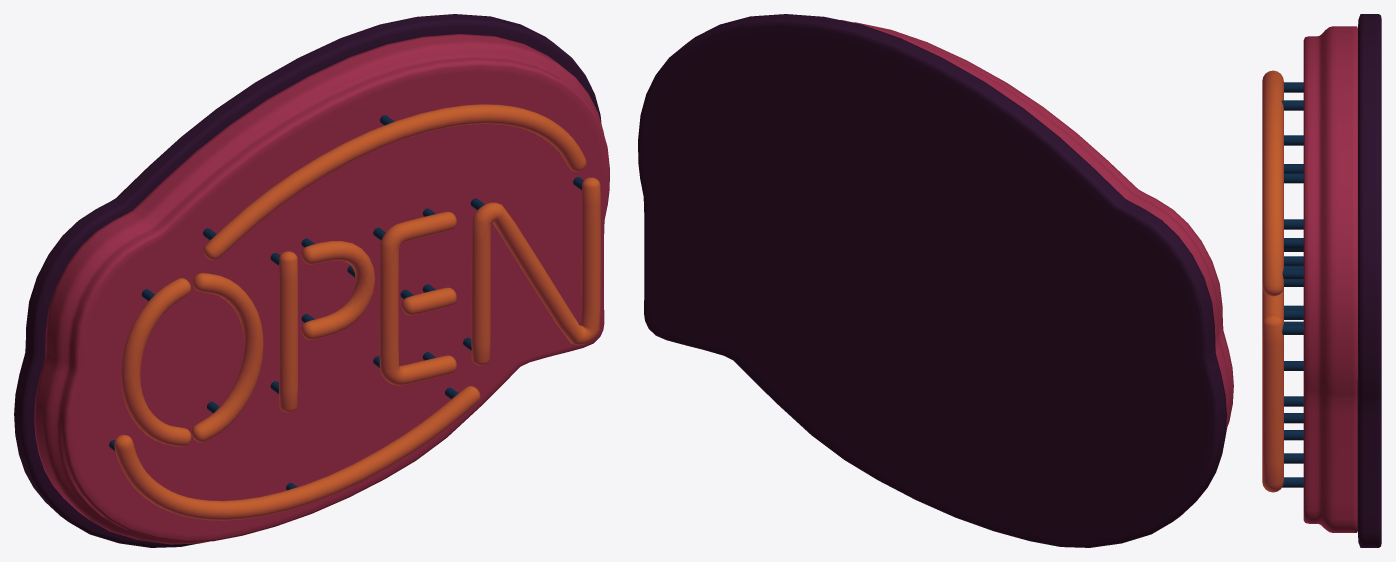
The model's file is Open Sign.fbx.
3 views of the same model, side by side, from view 1: azimuth 30°, elevation 25°; view 2: azimuth 150°, elevation 25°; view 3: azimuth 270°, elevation 25° (orthographic). The views are drawn at different scales.
Parts seen in each view (by area): view 1: backplate_2, backplate_1, n, tube_1, tube_2, e_1, o_1, o_2, p_2, p_1, e_2; view 2: backplate_1, backplate_2; view 3: backplate_2, backplate_1, tube_1, n, peg_7, peg_6, peg_5, peg_8, peg_2, peg_3, peg_4, peg_10 (+9 smaller).
Part boxes in pixels (x1,y1,x2,y2): backplate_2: (34, 34, 609, 544); backplate_1: (14, 14, 601, 547); n: (471, 177, 600, 365); tube_1: (203, 104, 586, 260); tube_2: (114, 386, 480, 520); e_1: (379, 211, 456, 385); o_1: (191, 273, 263, 442); o_2: (121, 278, 191, 446); p_2: (301, 241, 375, 339); p_1: (278, 251, 298, 412); e_2: (401, 287, 456, 315); backplate_1: (638, 14, 1226, 547); backplate_2: (840, 20, 1233, 433); backplate_2: (1303, 26, 1357, 532); backplate_1: (1357, 14, 1381, 547); tube_1: (1262, 70, 1283, 296); n: (1262, 283, 1283, 492); peg_7: (1282, 324, 1303, 334); peg_6: (1282, 269, 1303, 279); peg_5: (1281, 100, 1303, 110); peg_8: (1282, 477, 1303, 487); peg_2: (1284, 430, 1303, 440); peg_3: (1284, 453, 1303, 463); peg_4: (1284, 82, 1303, 92); peg_10: (1284, 413, 1303, 423).
Bounding box in the file's own units: 5.83 × 4.49 × 0.9422.
